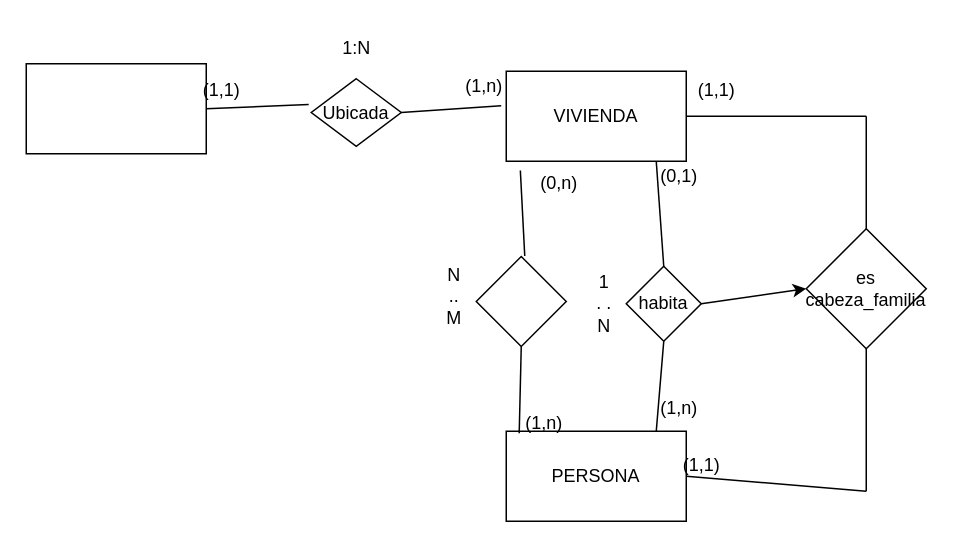
This 953x548 diagram has some shape labels left out. Here are the shapes that lost their labels. From the top down, the box of each, then its label:
(25, 62, 206, 154): MUNICIPIO
(475, 255, 566, 346): es propietaria
